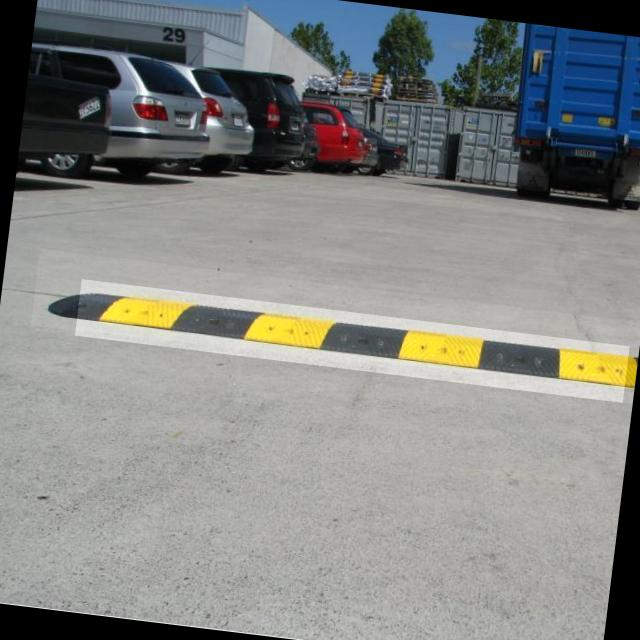bump: (74, 278, 629, 402)
